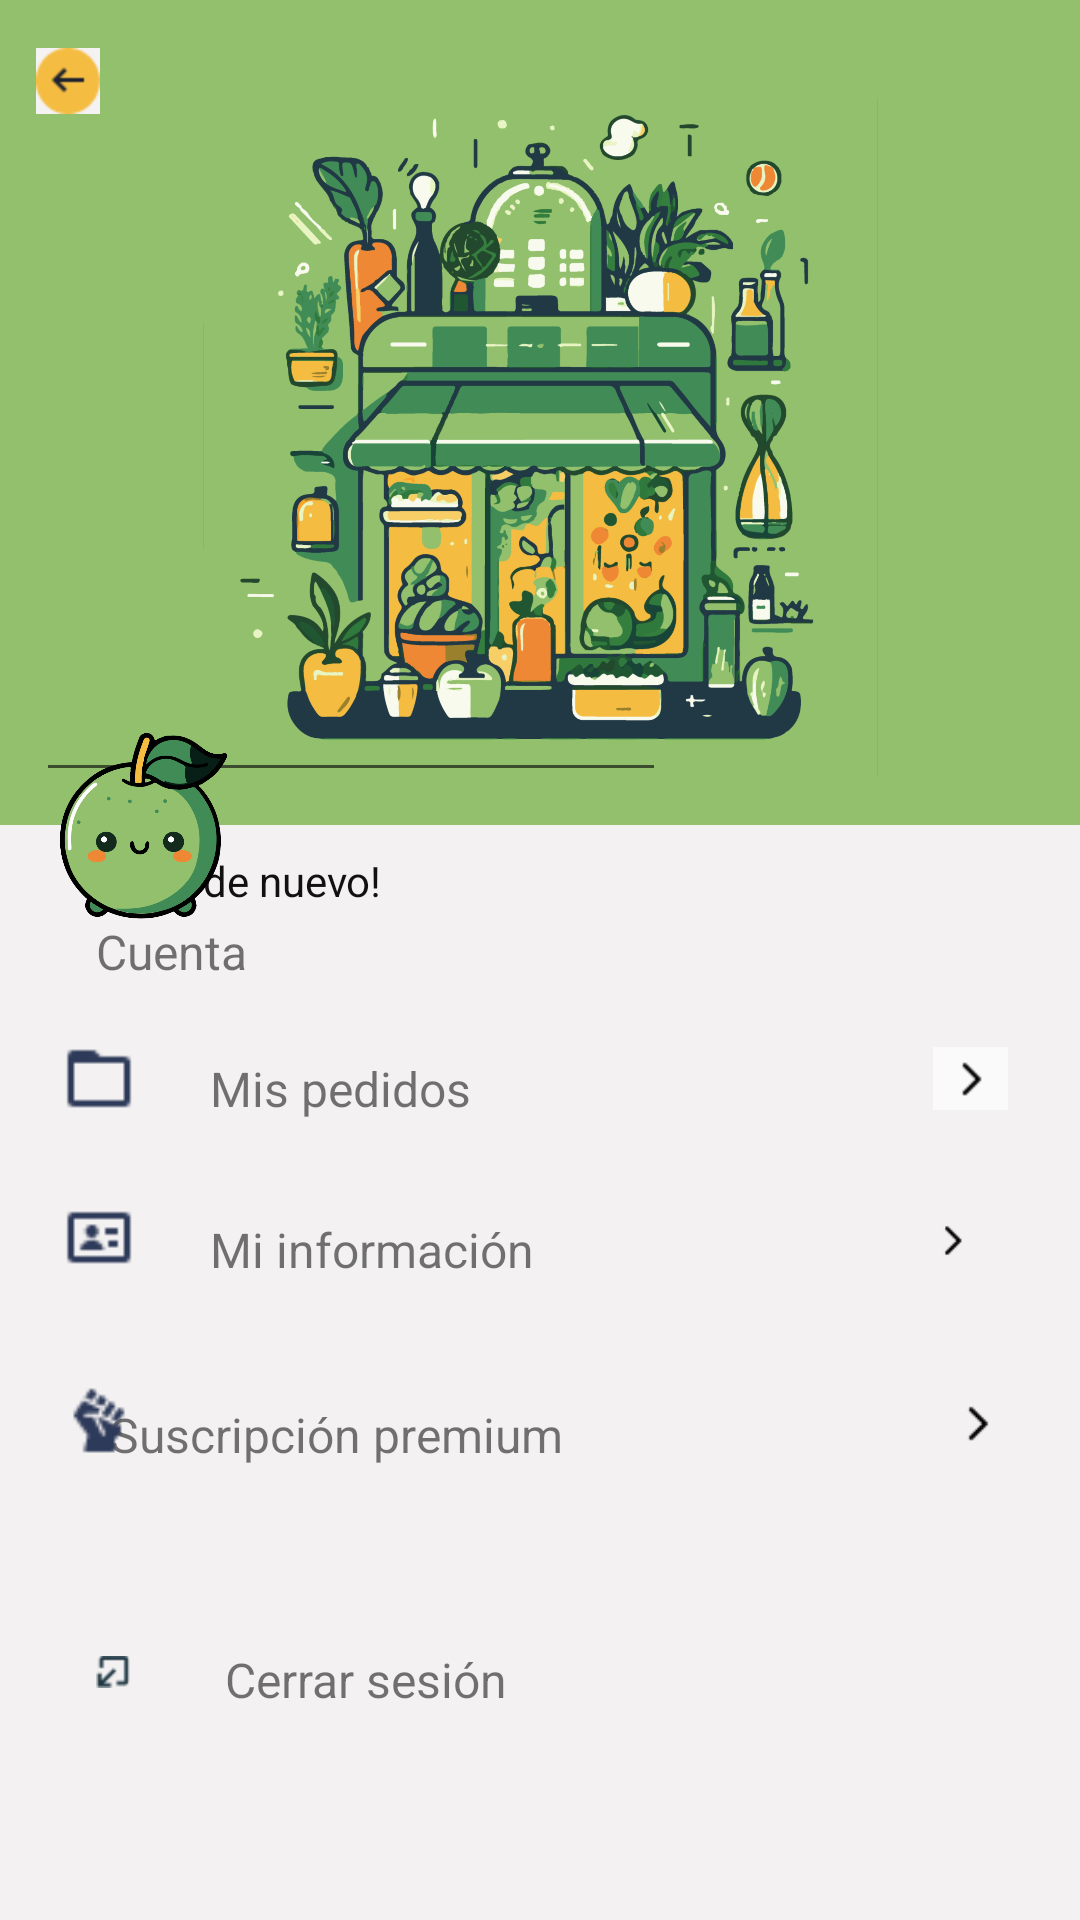

Screen size 1080px x 1920px. Icon name, then its center in pixels as (x=x, y=y):
atras: (x=68, y=81)
folder: (x=99, y=1078)
id card: (x=99, y=1237)
lives matter: (x=105, y=1421)
manzanita: (x=144, y=826)
salir: (x=113, y=1672)
